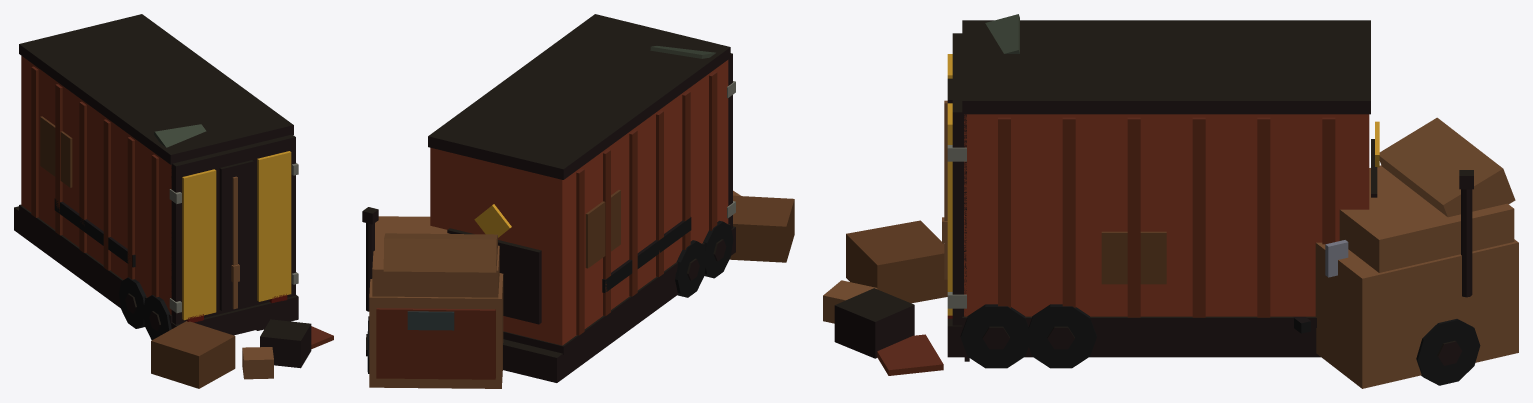
Rendered from rig.glb.
3 renders of one model, left to right at view 1: azimuth 30°, elevation 25°; view 2: azimuth 150°, elevation 25°; view 3: azimuth 270°, elevation 25°, orthographic. The views are drawn at different scales.
Parts seen in each view (by area): view 1: ToppledRig; view 2: ToppledRig; view 3: ToppledRig.
Boxes of the visible parts, x1,y1,x2,y2 form: ToppledRig: (14,14,333,388); ToppledRig: (362,14,794,388); ToppledRig: (823,14,1518,388).
Size of the model in its own units: 4.06 by 3.77 by 8.58.
